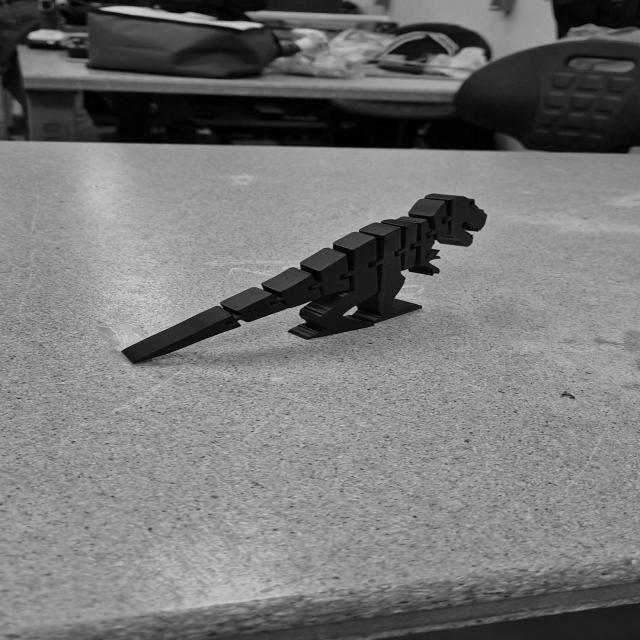dino: (120, 192, 489, 365)
